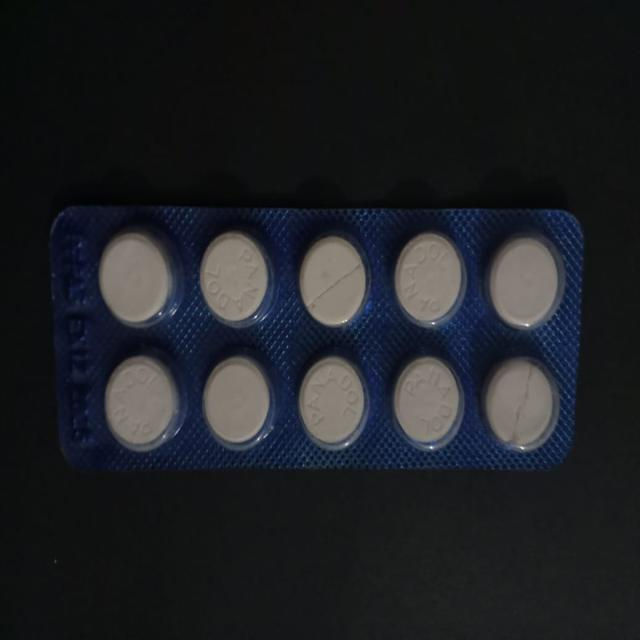defect: (479, 354, 563, 455), (298, 232, 369, 330)
